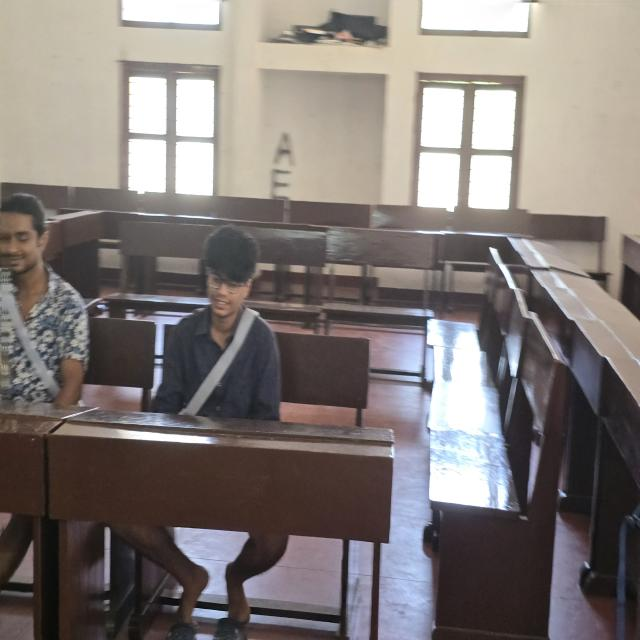seatbelt: (169, 310, 296, 428), (12, 278, 62, 392)
